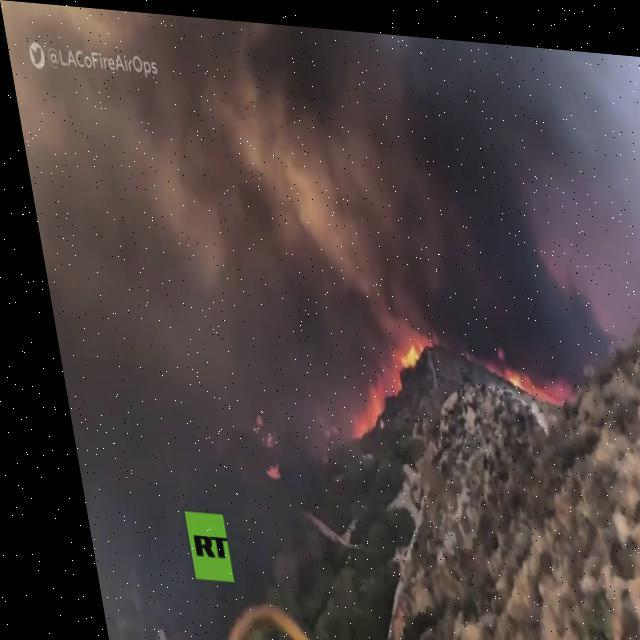Fire: (322, 318, 432, 438), (485, 356, 559, 396), (248, 457, 268, 477)
